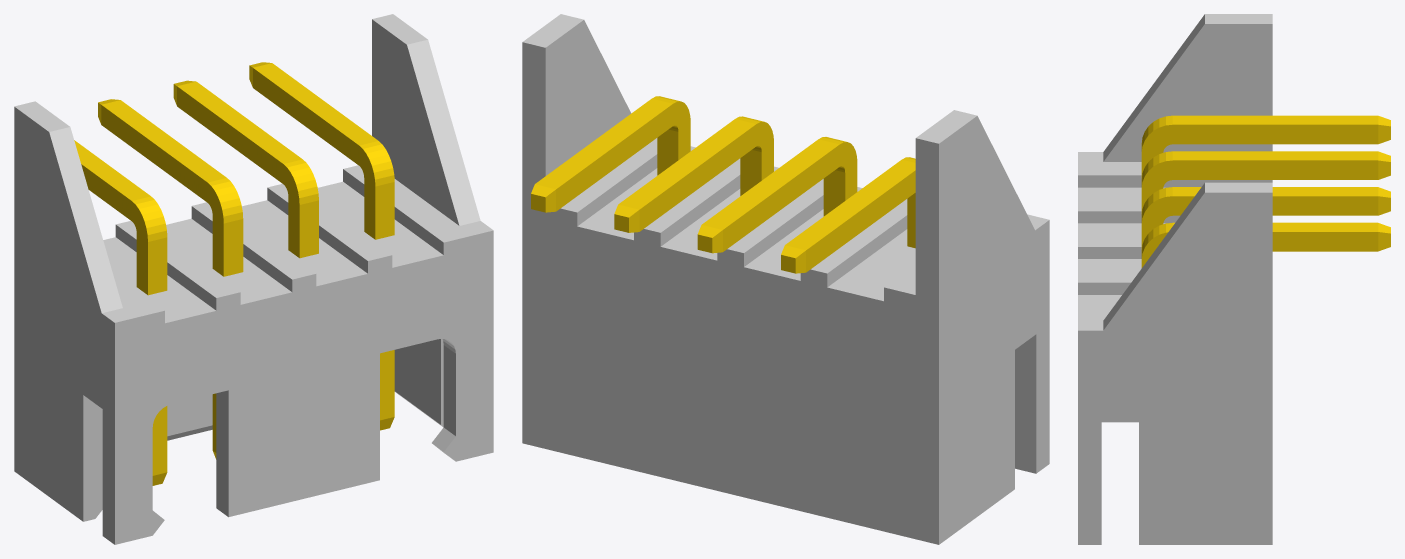
The model's file is DS1069-4 CWF-4R.obj.
3 views of the same model, side by side, from view 1: azimuth 30°, elevation 25°; view 2: azimuth 150°, elevation 25°; view 3: azimuth 270°, elevation 25° (orthographic). The views are drawn at different scales.
Visible parts, largest first — view 1: DS1069-4_CWF-4R; view 2: DS1069-4_CWF-4R; view 3: DS1069-4_CWF-4R.
Boxes of the visible parts, box(x1,y1,x2,y2) form: DS1069-4_CWF-4R: box(14, 14, 493, 544); DS1069-4_CWF-4R: box(522, 14, 1049, 544); DS1069-4_CWF-4R: box(1078, 14, 1390, 544).
Size of the model in its own units: 0.0169 by 0.0155 by 0.0125.
